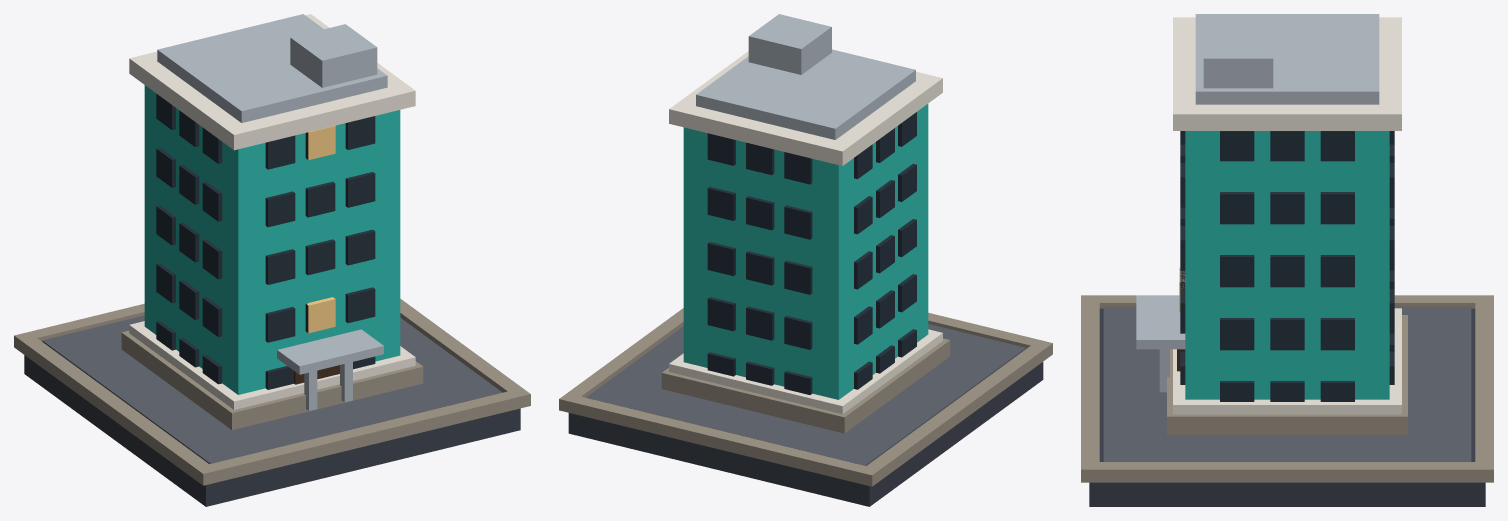
The model's file is city.office_tower.glb.
3 views of the same model, side by side, from view 1: azimuth 30°, elevation 25°; view 2: azimuth 150°, elevation 25°; view 3: azimuth 270°, elevation 25° (orthographic). The views are drawn at different scales.
Visible parts, largest first — view 1: city.office_tower; view 2: city.office_tower; view 3: city.office_tower.
Boxes of the visible parts, <box> form: city.office_tower: <box>14,14,530,506</box>; city.office_tower: <box>559,14,1052,506</box>; city.office_tower: <box>1081,14,1493,506</box>.
Bounding box in the file's own units: 2.02 × 2.16 × 2.02.
